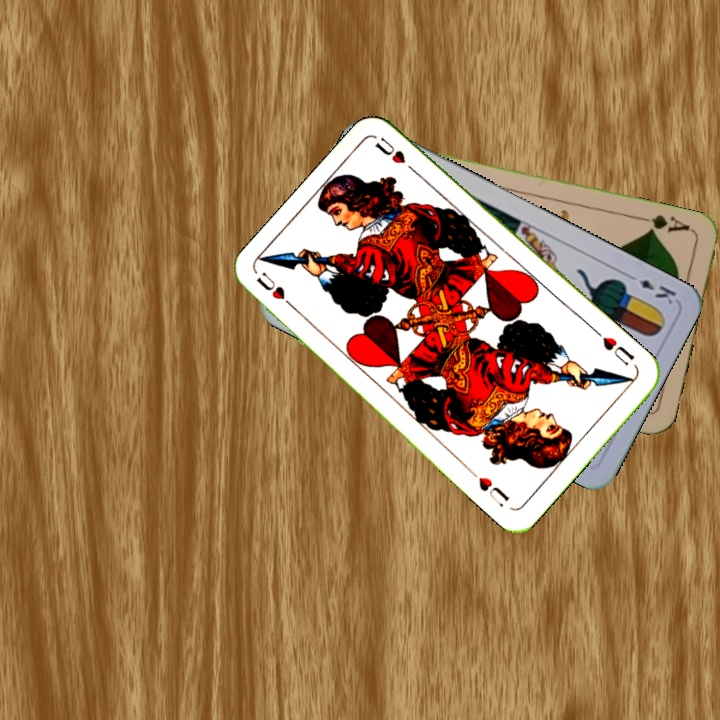EK: (623, 269, 679, 308)
GA: (636, 210, 694, 236)
HU: (252, 268, 301, 315), (592, 327, 638, 368)
